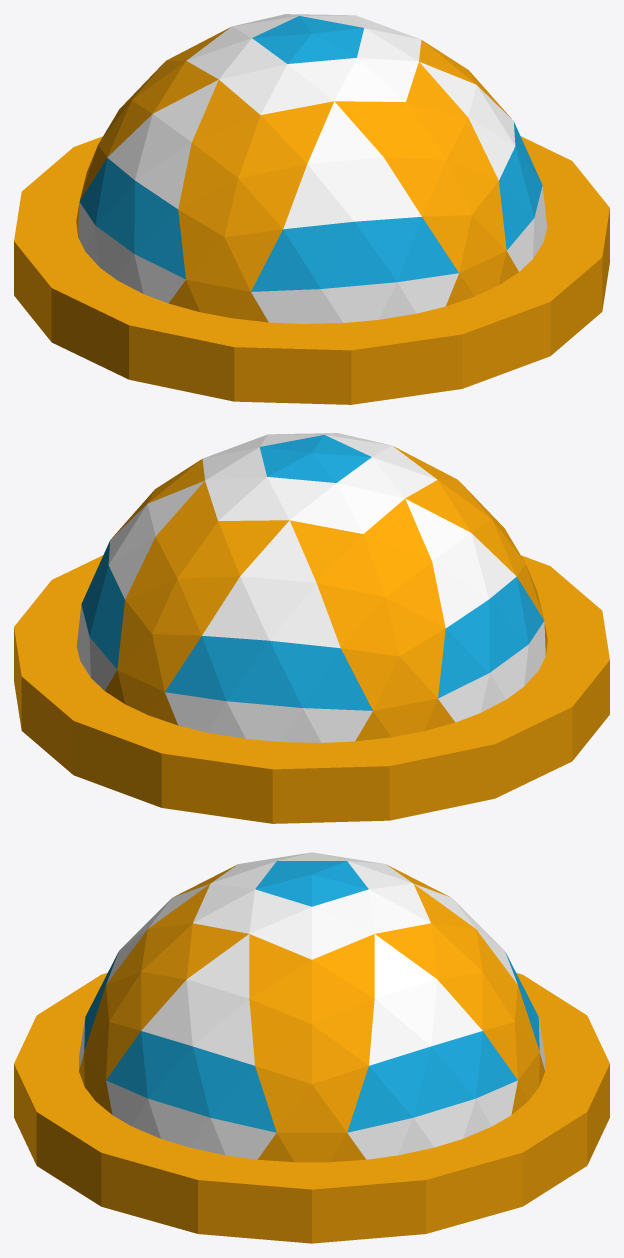
File: Space_House_Lvl_2.fbx
The picture shows the model from 3 angles, top to bottom: view 1: azimuth 30°, elevation 25°; view 2: azimuth 150°, elevation 25°; view 3: azimuth 270°, elevation 25°; orthographic projection.
Visible parts, largest first — view 1: Icosphere; view 2: Icosphere; view 3: Icosphere.
Boxes of the visible parts, bbox=[...] form: Icosphere: bbox=[14, 14, 609, 404]; Icosphere: bbox=[14, 433, 609, 823]; Icosphere: bbox=[14, 852, 609, 1243].
Size of the model in its own units: 100 by 45 by 100.
